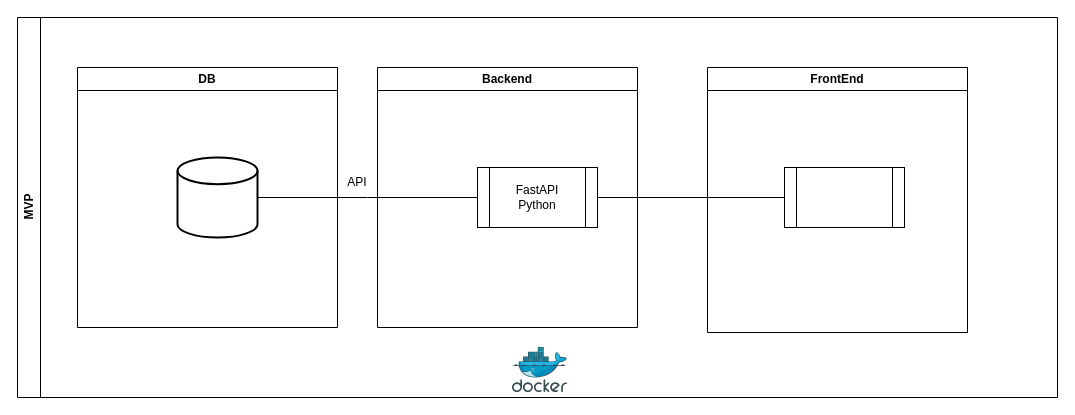
This 1075x415 diagram has some shape labels left out. The box of each missing label's shape, as (x1, y1, x2, y2) in pixels:
NextJS Typescript: (784, 166, 904, 228)
SQLServer: (176, 156, 258, 238)
